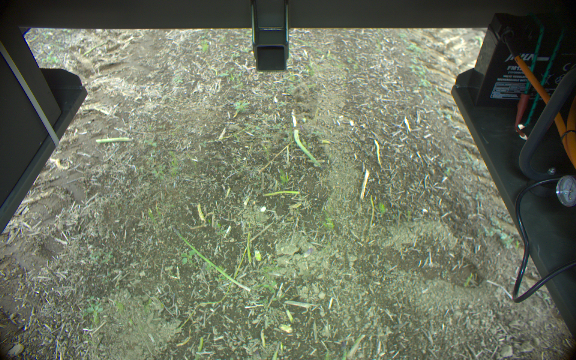aspa: (168, 225, 248, 291), (290, 106, 320, 170), (93, 134, 134, 144)
